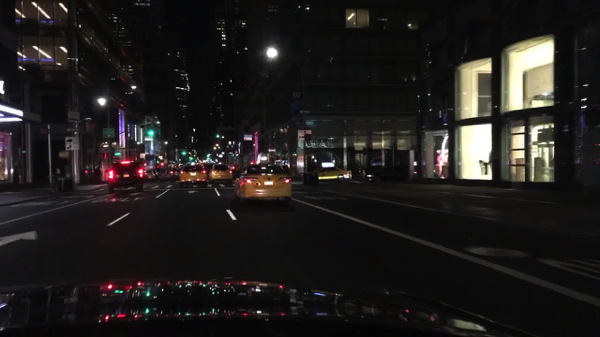car: (234, 163, 292, 203), (104, 158, 147, 193), (177, 163, 208, 188), (256, 153, 290, 172), (208, 163, 233, 187), (315, 164, 351, 179), (152, 161, 176, 180), (351, 164, 374, 181), (229, 164, 244, 179), (370, 157, 382, 167), (205, 164, 213, 172), (176, 162, 184, 169)
person: (11, 161, 22, 190)
traffic light: (148, 130, 154, 137), (115, 151, 121, 156), (190, 156, 194, 161), (182, 151, 186, 155), (231, 154, 235, 157)
traffic sign: (66, 137, 79, 151), (103, 128, 116, 138), (68, 111, 80, 119), (243, 134, 252, 141), (59, 152, 69, 158), (66, 128, 79, 132), (298, 131, 303, 140), (267, 149, 276, 153), (139, 153, 146, 158), (304, 130, 311, 135), (145, 137, 153, 141), (158, 155, 163, 161), (218, 154, 223, 158), (220, 152, 225, 154)
